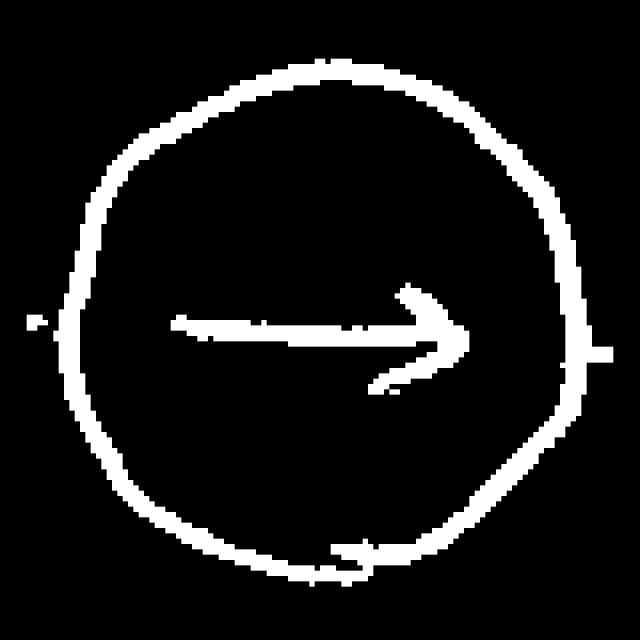current_source: (48, 52, 600, 601)
